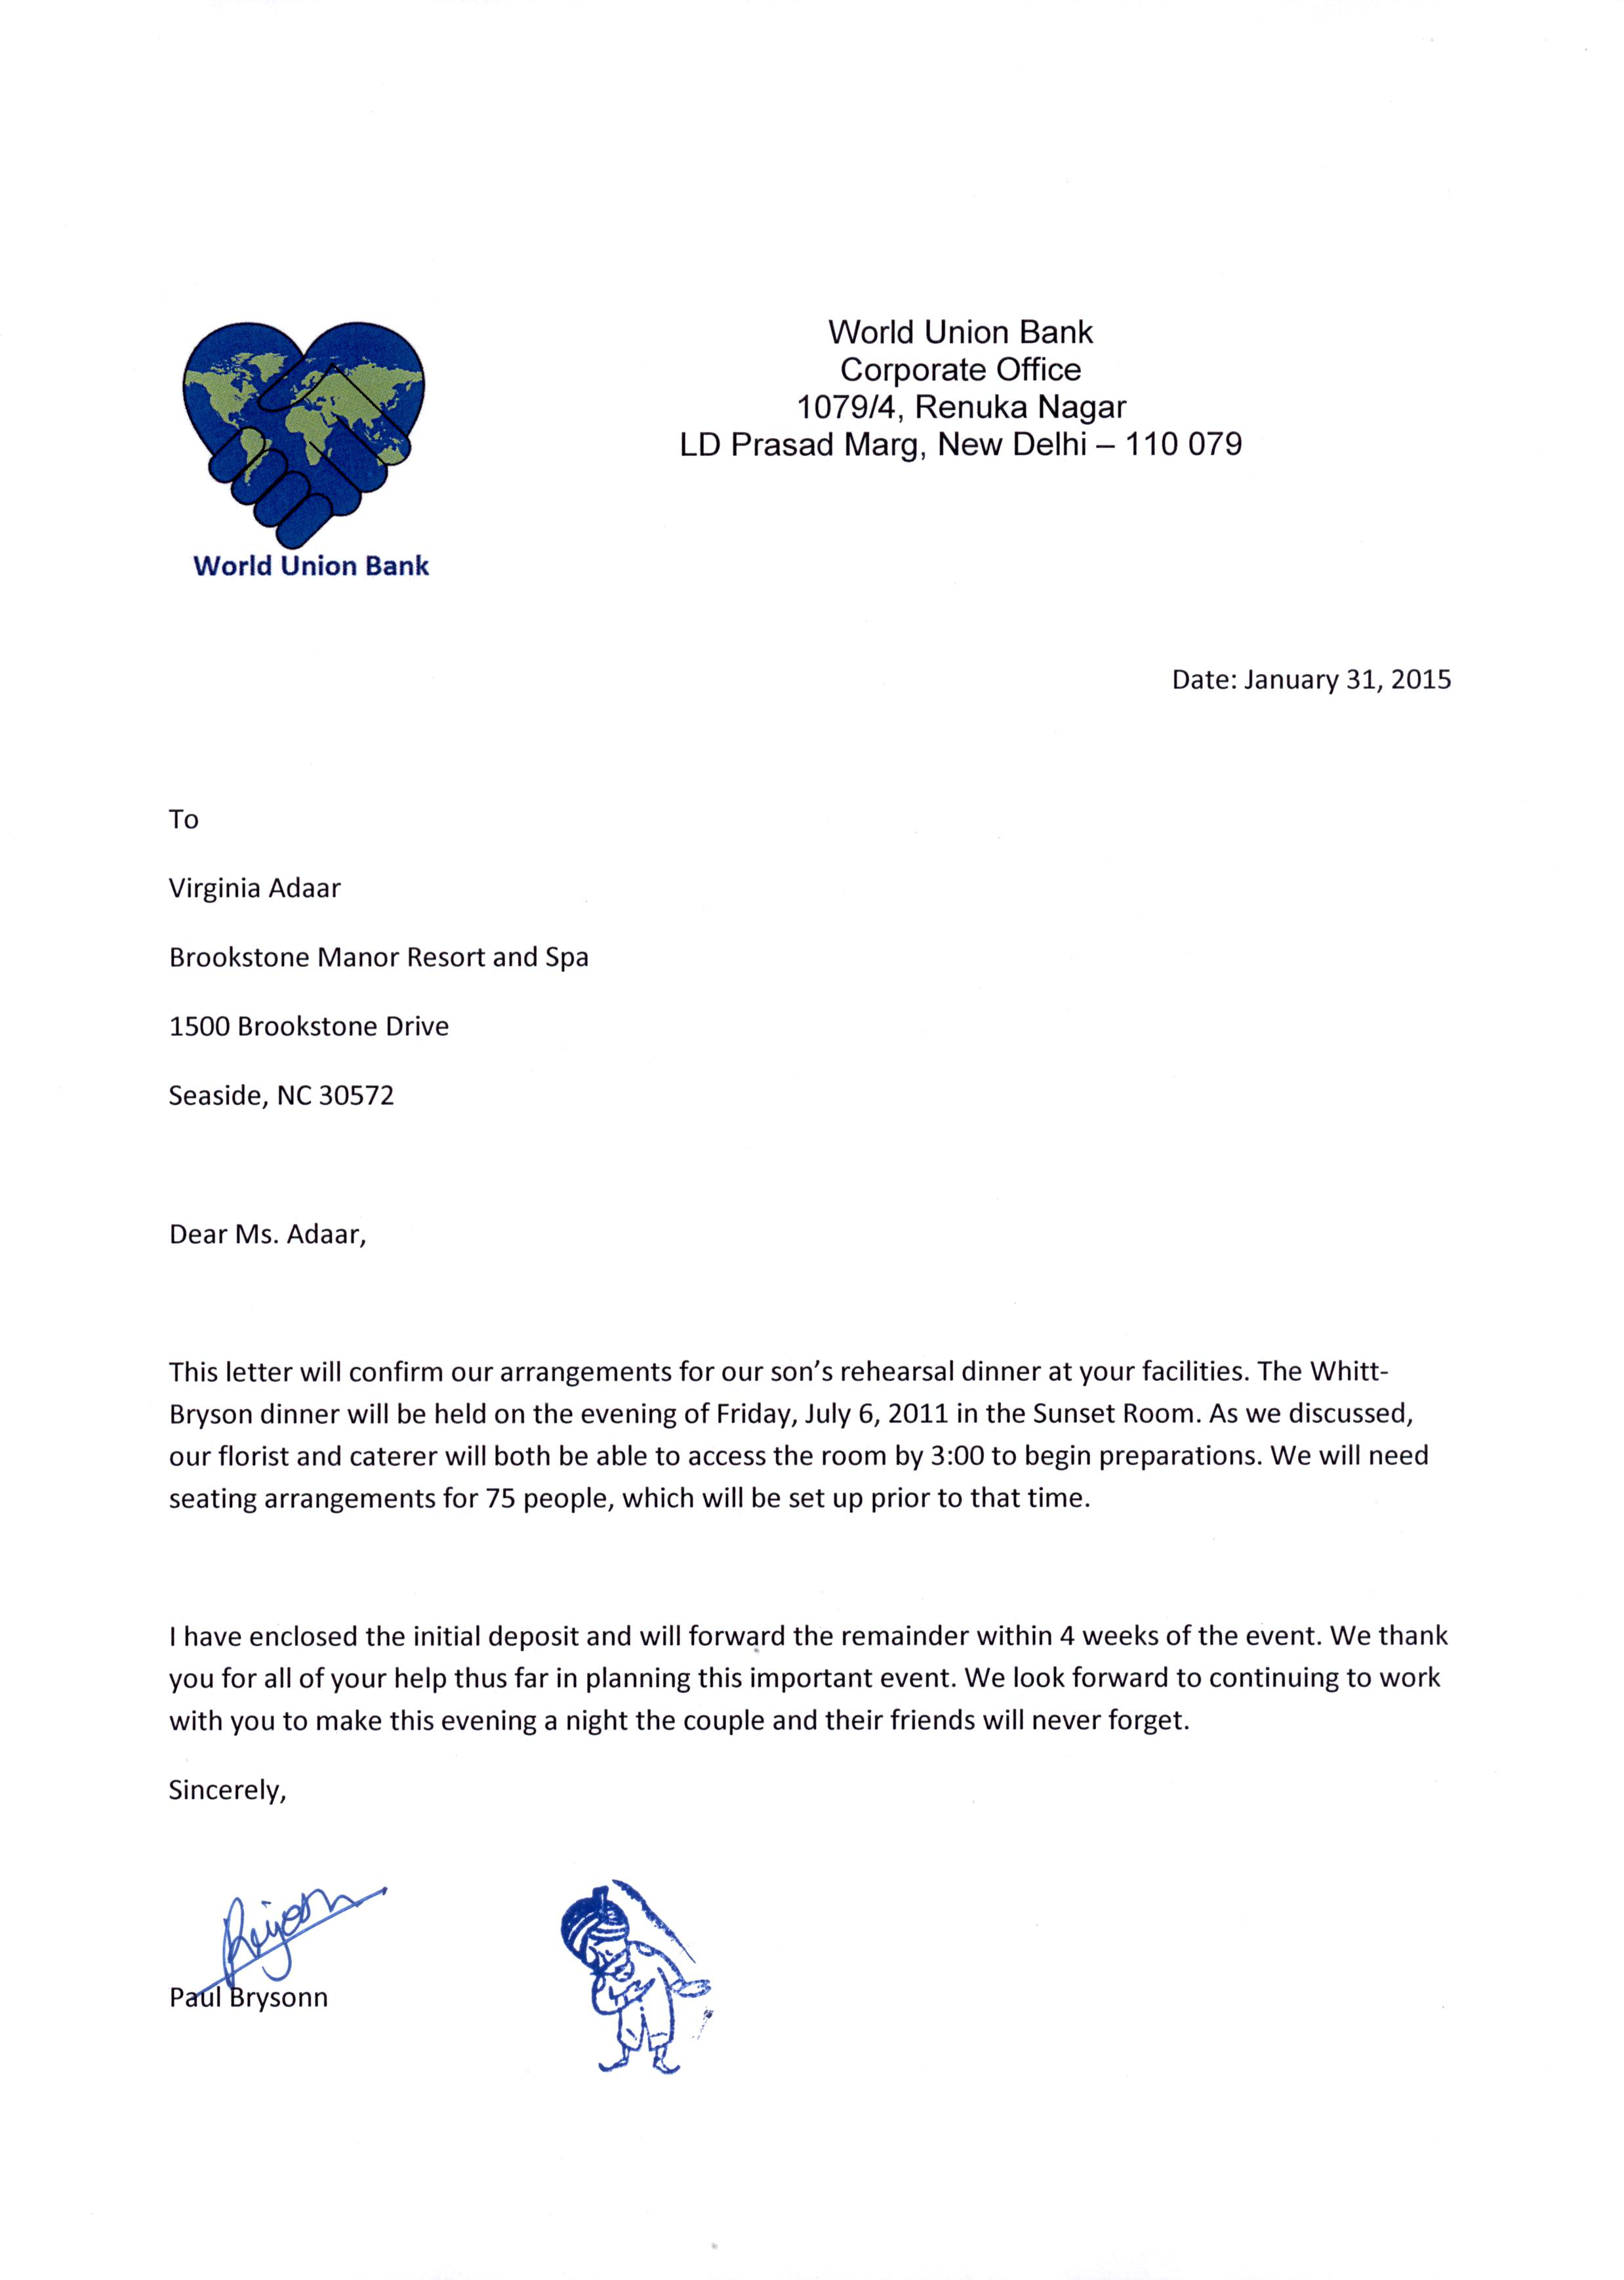Signature: (199, 1874, 394, 1990)
